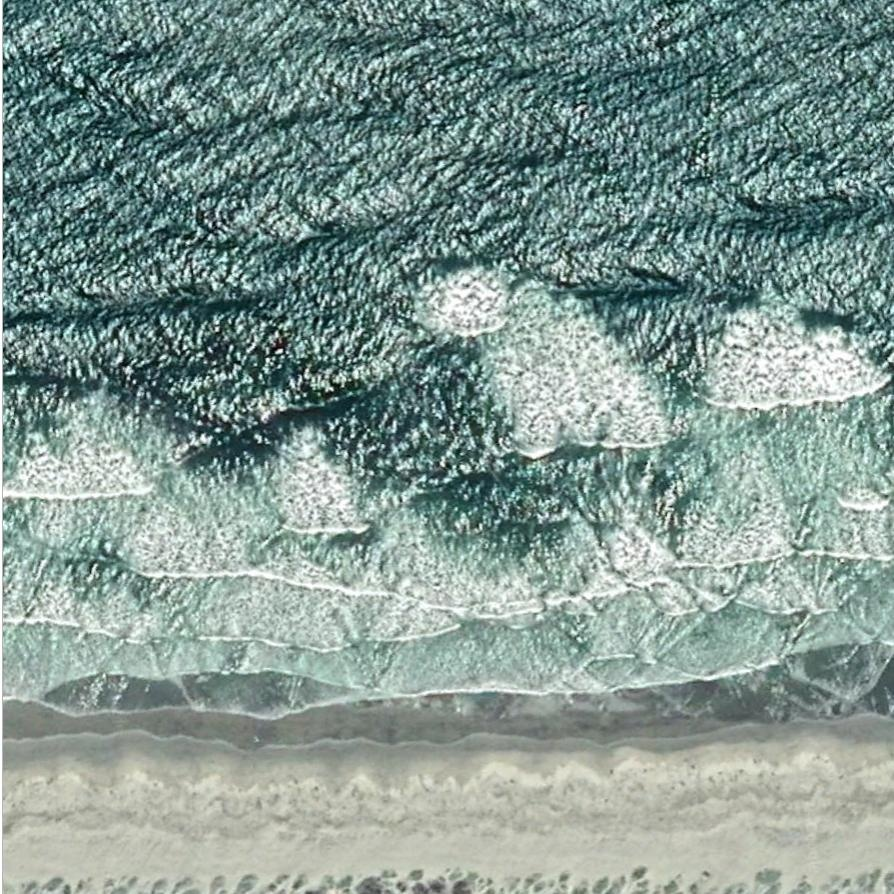rip_current: (239, 257, 628, 591)
